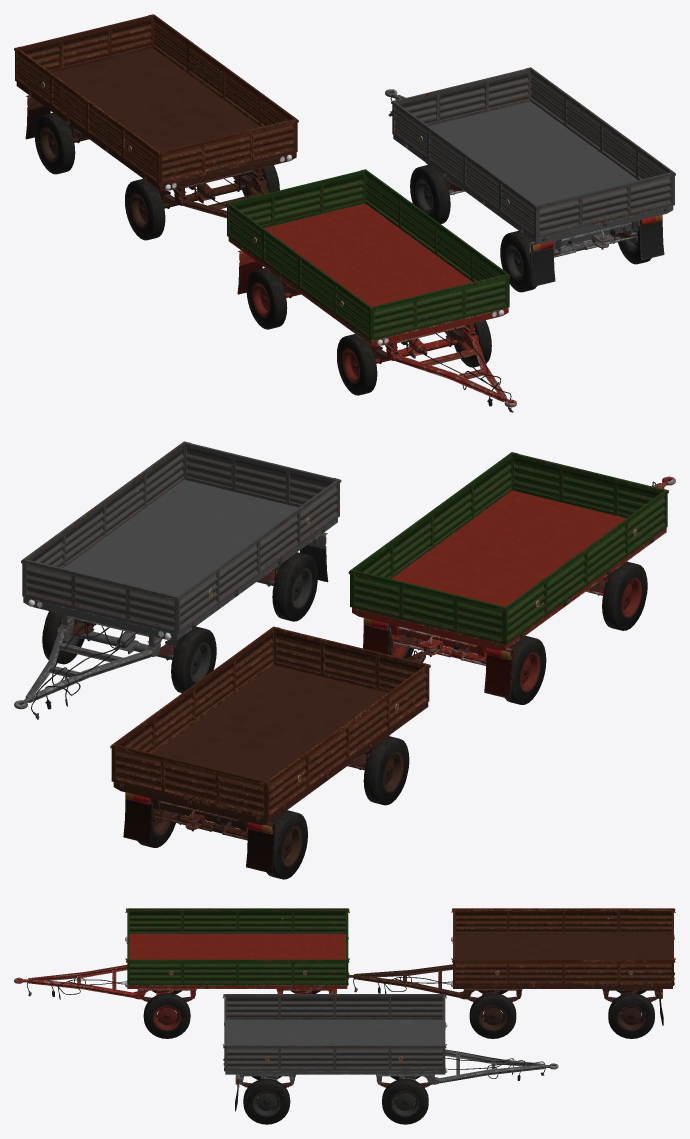
Rendered from trailer_pack.glb.
The picture shows the model from 3 angles, top to bottom: view 1: azimuth 30°, elevation 25°; view 2: azimuth 150°, elevation 25°; view 3: azimuth 270°, elevation 25°; orthographic projection. The views are drawn at different scales.
Visible parts, largest first — view 1: D46_body_M_D56c1_0, D46_body.002_M_D56c3_0, D46_body.001_M_D56c2_0, wheels_M_wheel1_0, wheels.001_M_wheel2_0, wheels.002_M_wheel3_0, D46_cables_M_D46_cables_0; view 2: D46_body.002_M_D56c3_0, D46_body.001_M_D56c2_0, D46_body_M_D56c1_0, wheels.002_M_wheel3_0, wheels.001_M_wheel2_0, wheels_M_wheel1_0, D46_cables_M_D46_cables_0; view 3: D46_body.002_M_D56c3_0, D46_body.001_M_D56c2_0, D46_body_M_D56c1_0, wheels.001_M_wheel2_0, wheels.002_M_wheel3_0, wheels_M_wheel1_0, D46_cables_M_D46_cables_0.
Part boxes in pixels (x1,y1,x2,y2): D46_body_M_D56c1_0: (226,169,516,407); D46_body.002_M_D56c3_0: (385,67,675,286); D46_body.001_M_D56c2_0: (14,14,298,218); wheels_M_wheel1_0: (246,268,491,395); wheels.001_M_wheel2_0: (34,113,279,240); wheels.002_M_wheel3_0: (410,165,651,292); D46_cables_M_D46_cables_0: (189,97,626,412); D46_body.002_M_D56c3_0: (14,441,341,709); D46_body.001_M_D56c2_0: (110,626,437,873); D46_body_M_D56c1_0: (348,452,675,698); wheels.002_M_wheel3_0: (42,552,317,693); wheels.001_M_wheel2_0: (137,736,409,879); wheels_M_wheel1_0: (389,561,647,704); D46_cables_M_D46_cables_0: (31,481,656,827); D46_body.002_M_D56c3_0: (222,994,558,1111); D46_body.001_M_D56c2_0: (348,908,675,1025); D46_body_M_D56c1_0: (14,908,349,1002); wheels.001_M_wheel2_0: (469,990,654,1038); wheels.002_M_wheel3_0: (243,1076,428,1124); wheels_M_wheel1_0: (143,990,320,1038); D46_cables_M_D46_cables_0: (27,967,545,1080).
Bounding box in the file's own units: 5.96 × 1.63 × 12.06.
7 materials, 7 textured.
